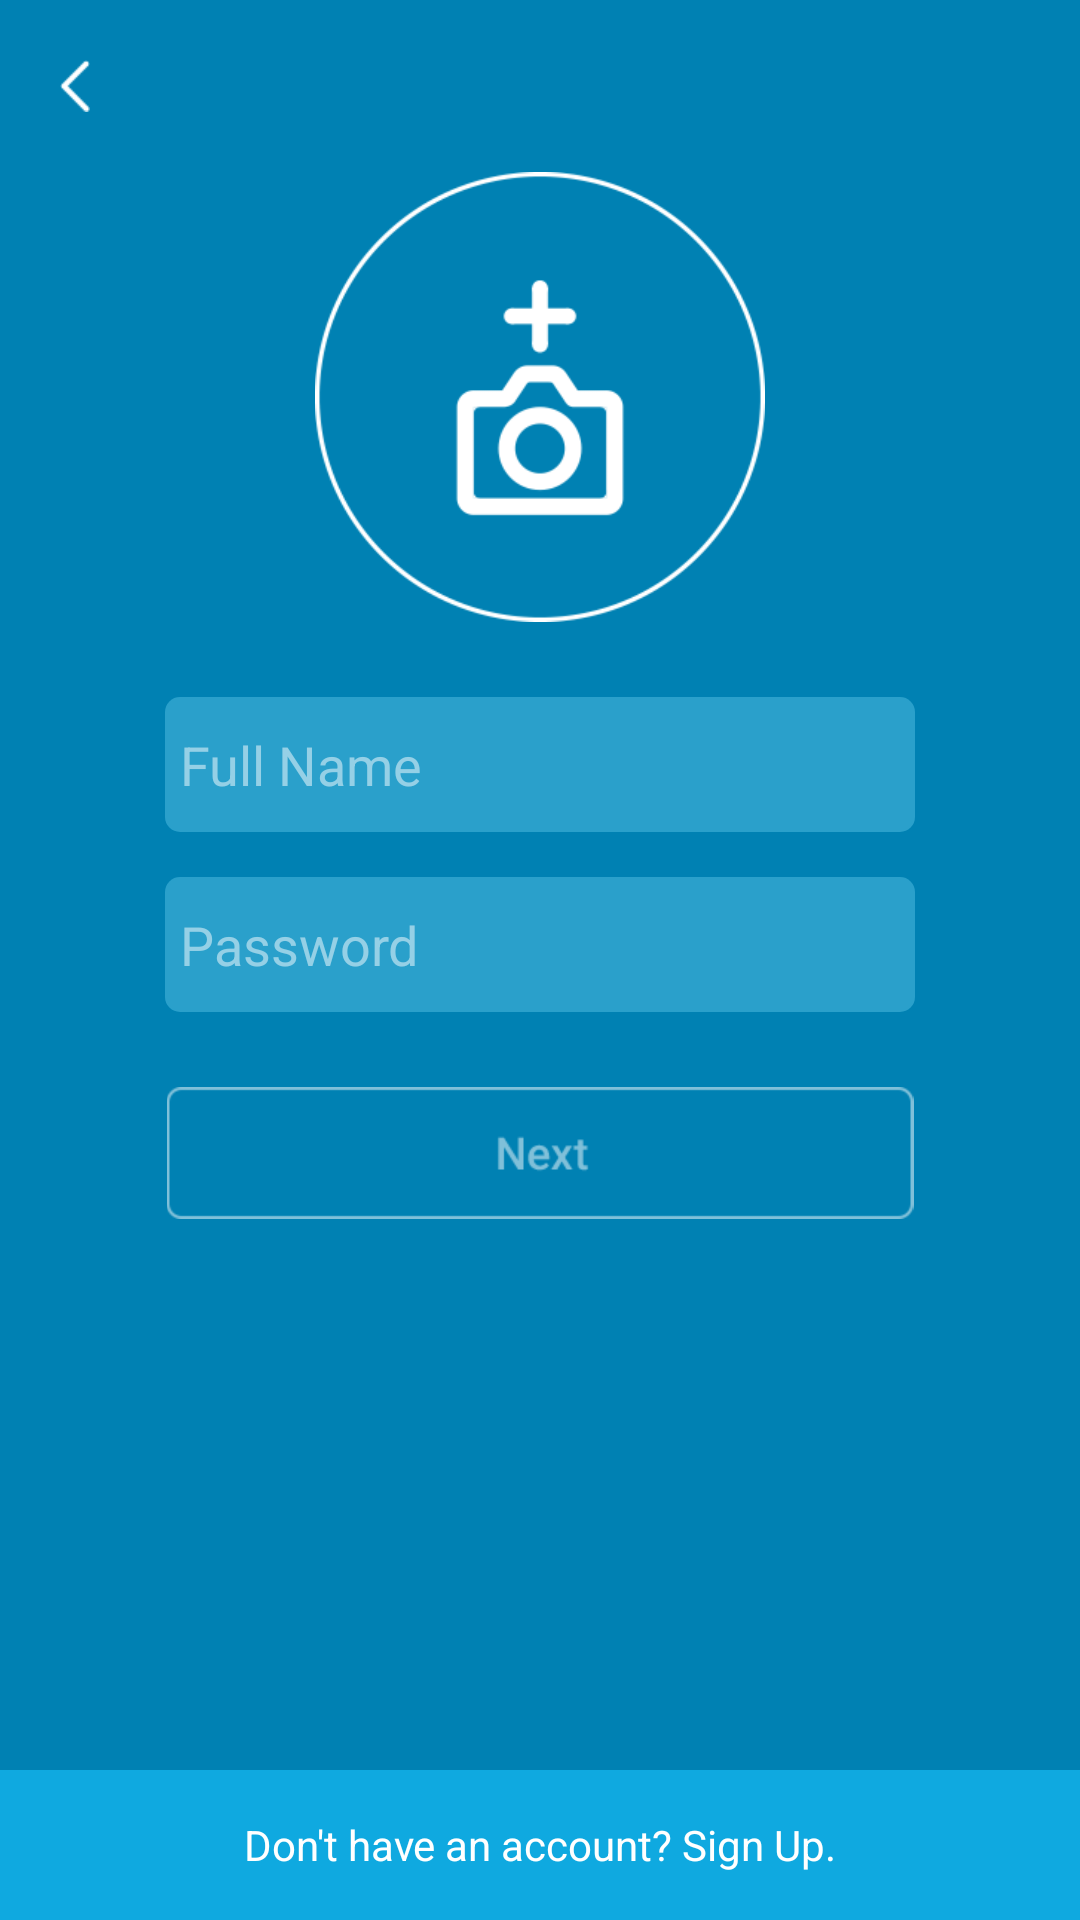

Screen size 1080 × 1920. Icon name, then its box in pixels as bbox=[x1, y1, x2, y2]:
back: bbox=[60, 60, 90, 112]
